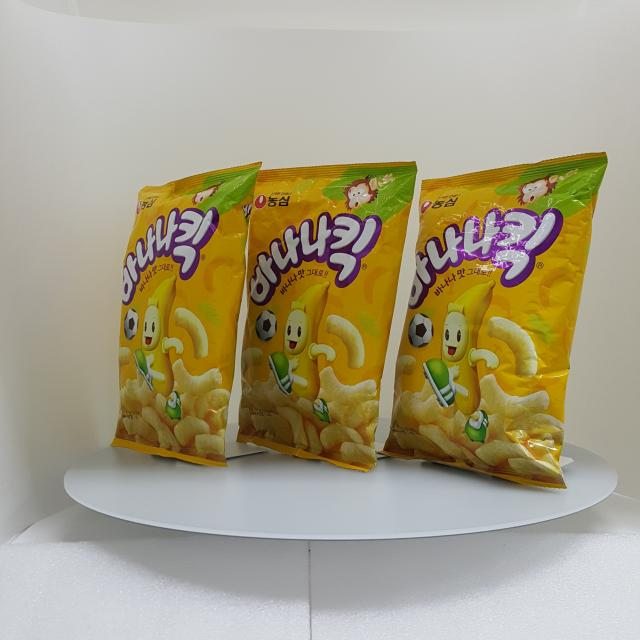-75G: (375, 152, 609, 490), (236, 161, 419, 474), (109, 162, 264, 468)
